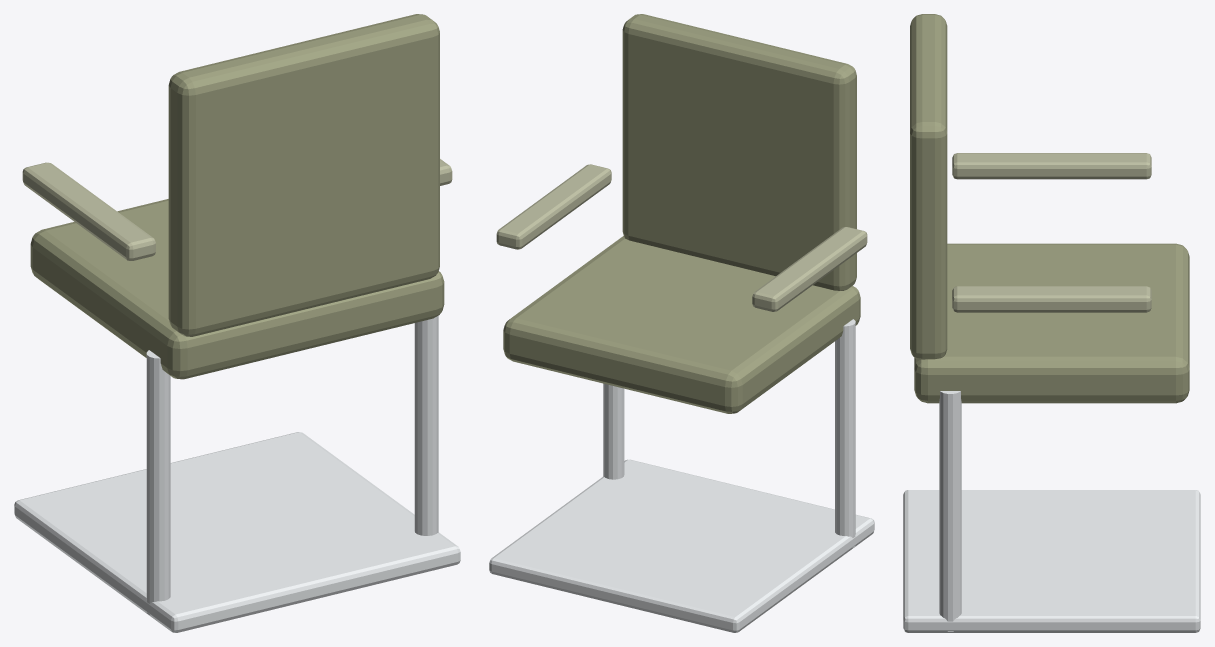
The model's file is office_lounge_seating_reference_board_76.glb.
The picture shows the model from 3 angles, left to right: view 1: azimuth 30°, elevation 25°; view 2: azimuth 150°, elevation 25°; view 3: azimuth 270°, elevation 25°; orthographic projection. The views are drawn at different scales.
Parts seen in each view (by area): view 1: Cube; view 2: Cube; view 3: Cube.
Part boxes in pixels (box(x1,y1,x2,y2)): Cube: box(14, 14, 460, 632); Cube: box(489, 14, 874, 632); Cube: box(903, 14, 1200, 632).
Bounding box in the file's own units: 0.554 × 0.885 × 0.4756.
